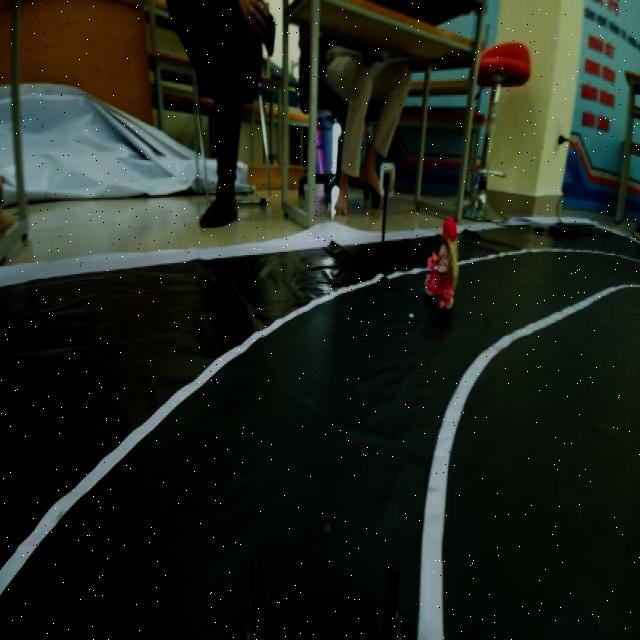pedestrian: (427, 208, 461, 305)
